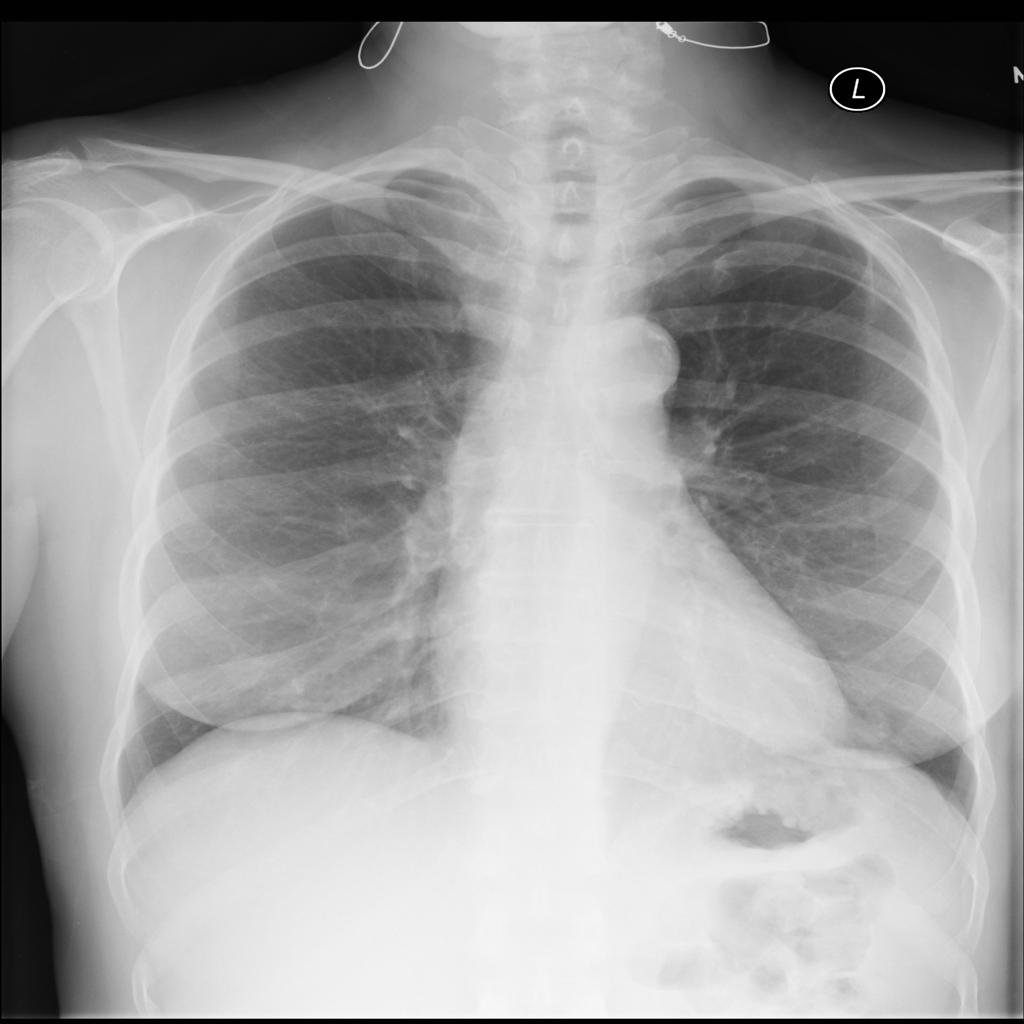nodule: (828, 696, 912, 757)
